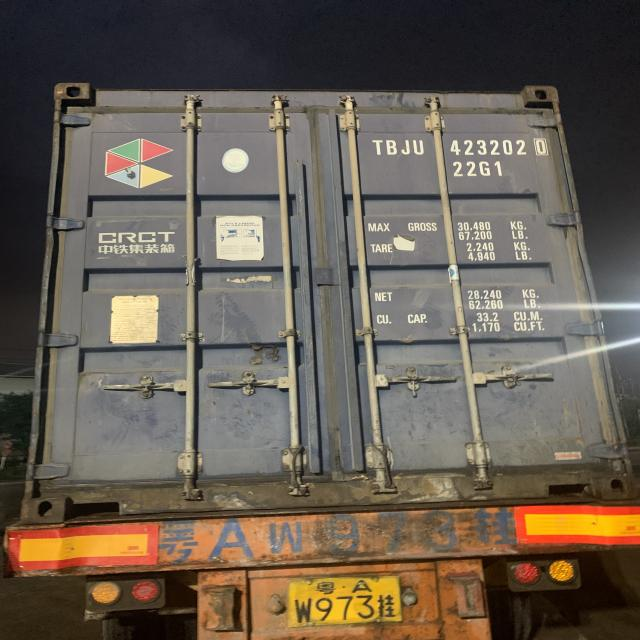seal: (400, 372, 431, 398)
